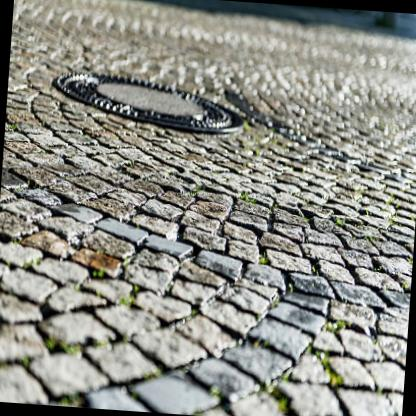manholes: (36, 43, 272, 161)
